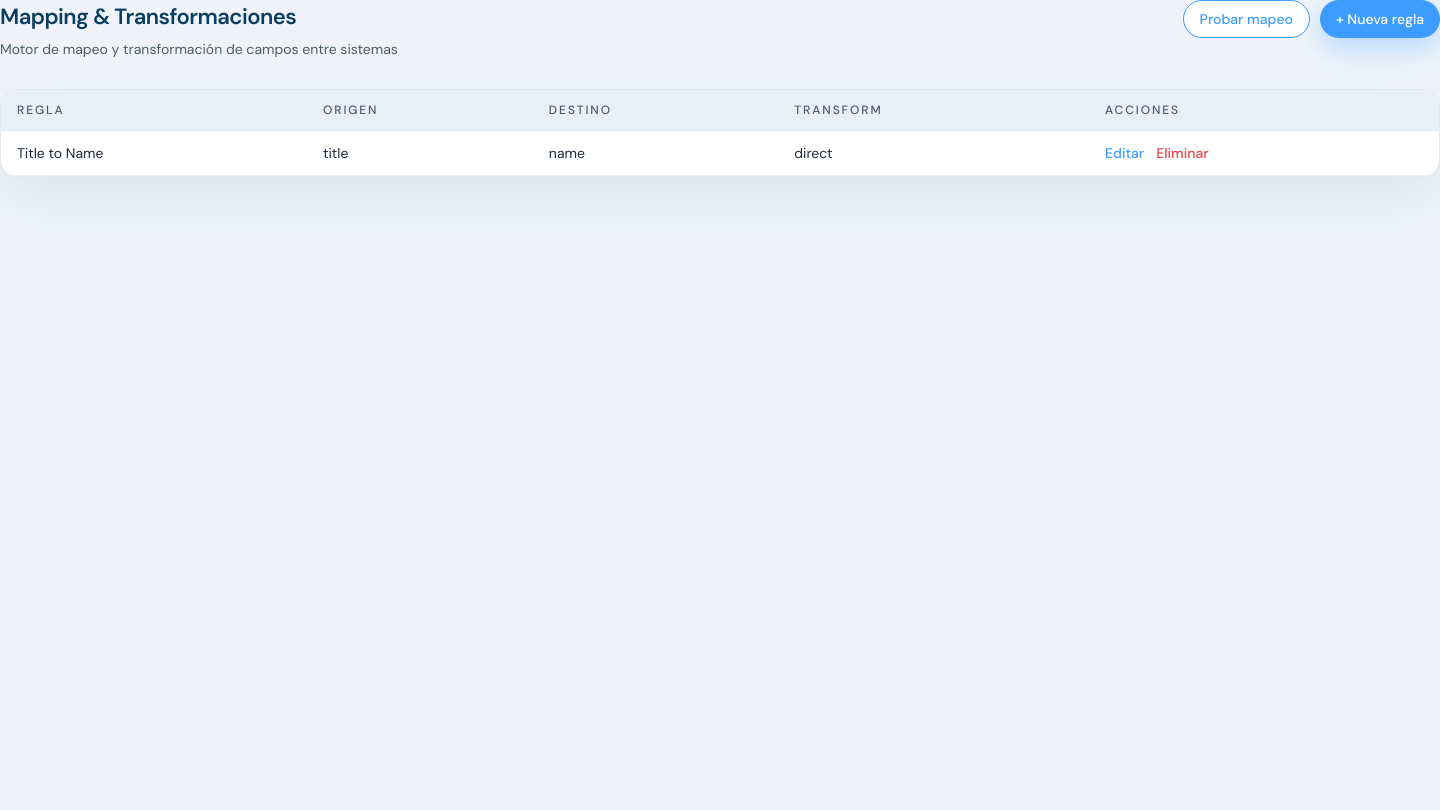
Scenario: MappingPage › abre edición y confirmación de borrado
This screenshot has width=1440, height=810.
Step 1. Click the button "Editar" → (1125, 153), box [1105,143,1144,163]
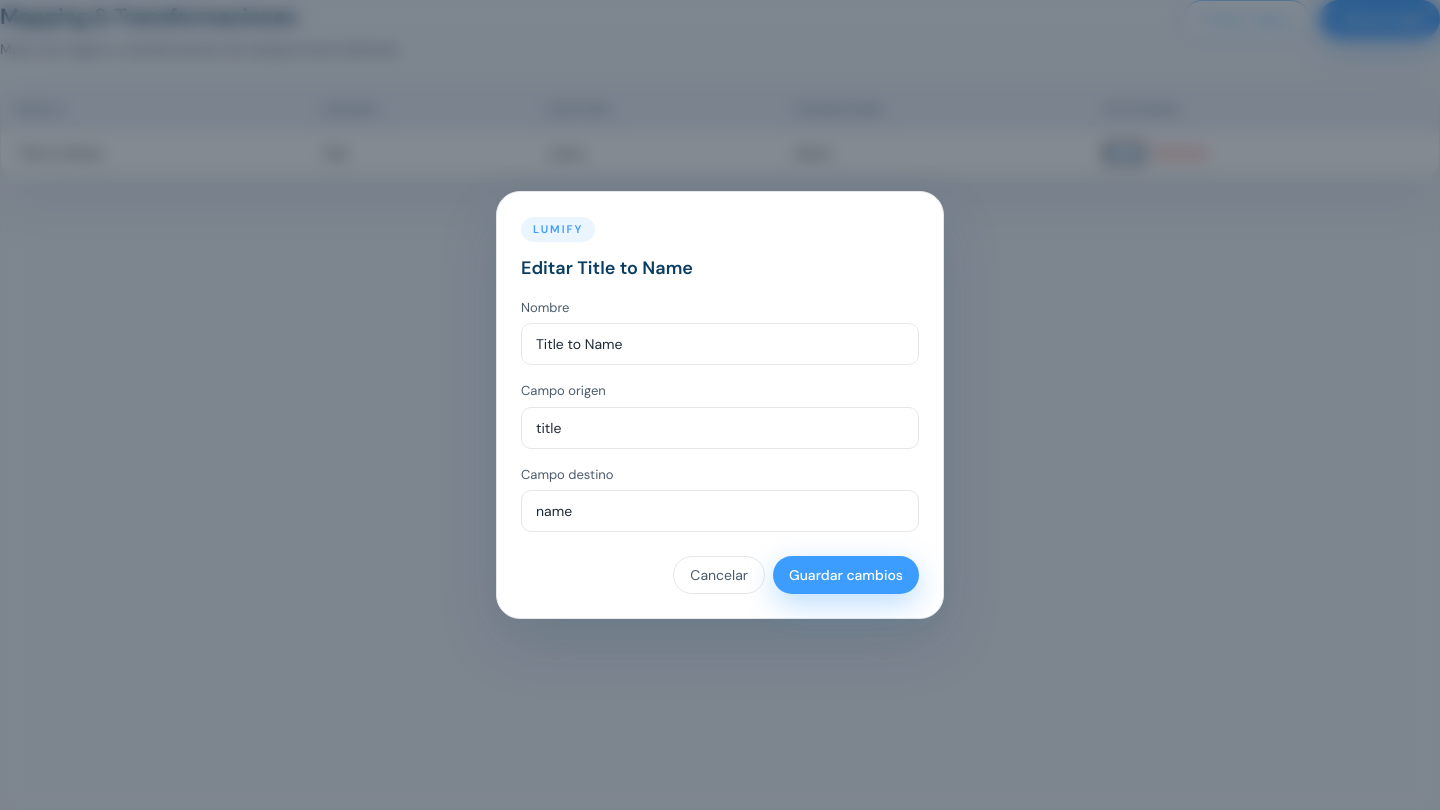
Expected: the heading "Editar Title to Name" is shown, [521,256,693,280]
Step 2. Click the button "Cancelar" → (719, 575), box [673,556,765,594]
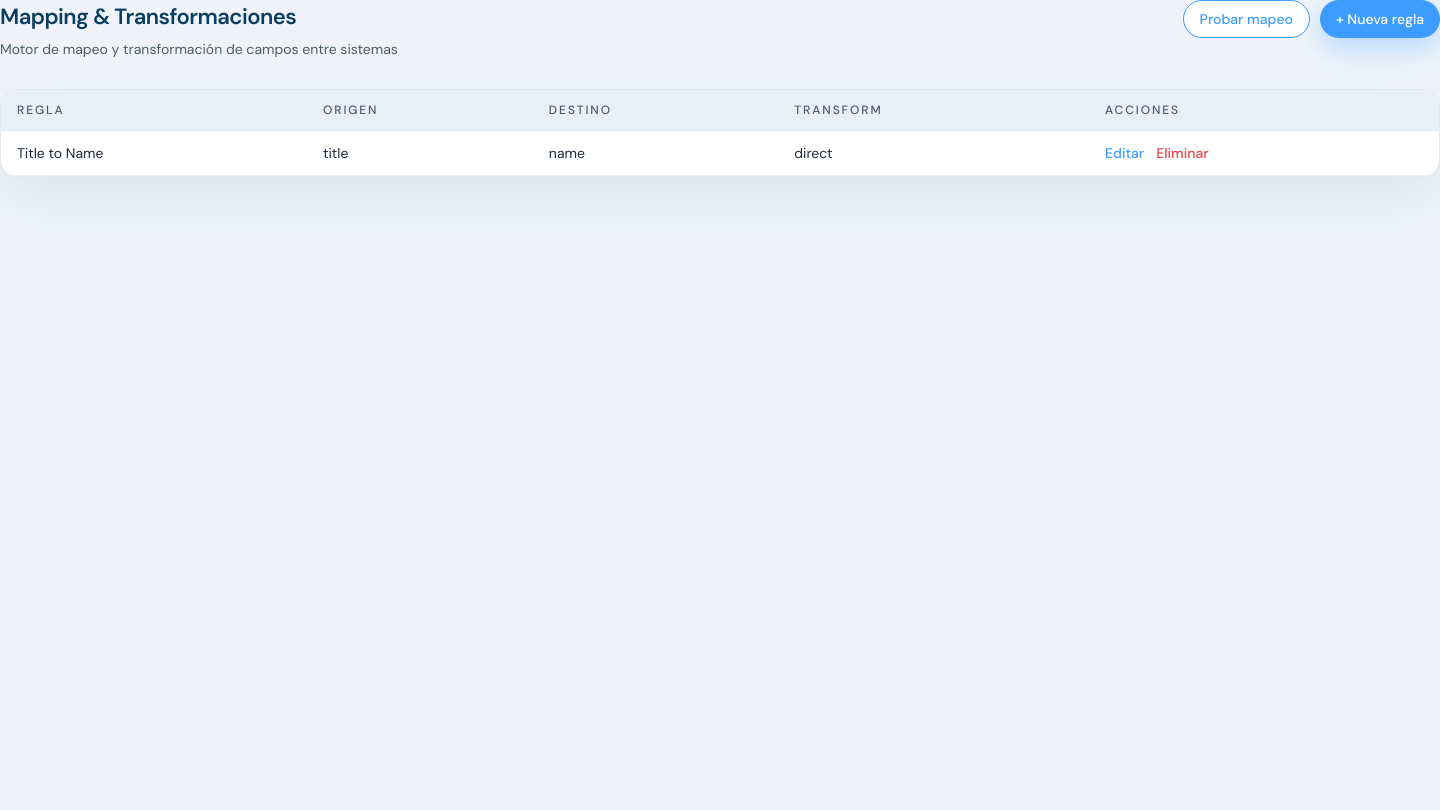
Step 3. Click the button "Eliminar" → (1182, 153), box [1156,143,1209,163]
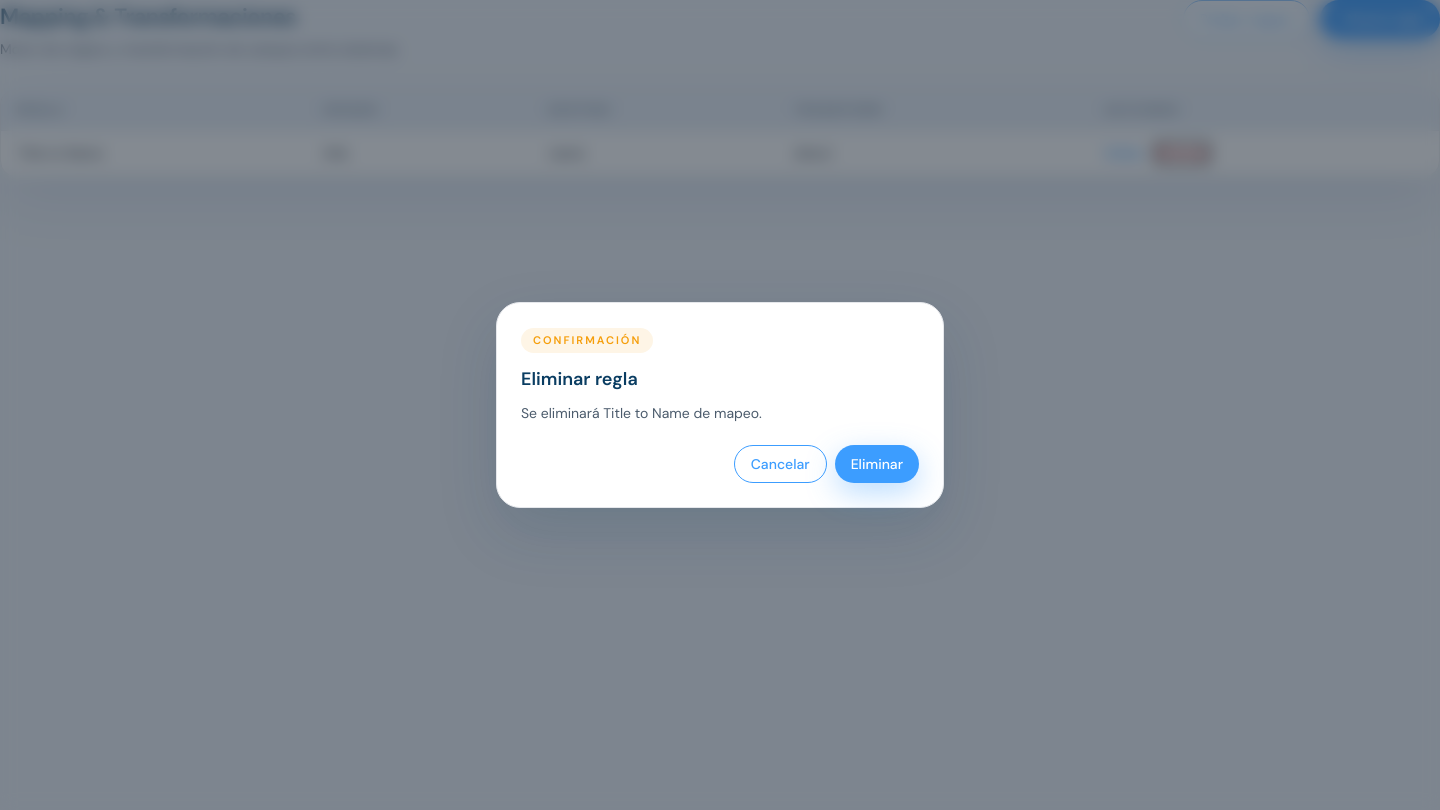
Expected: the heading "Eliminar regla" is shown, [521,367,638,391]
